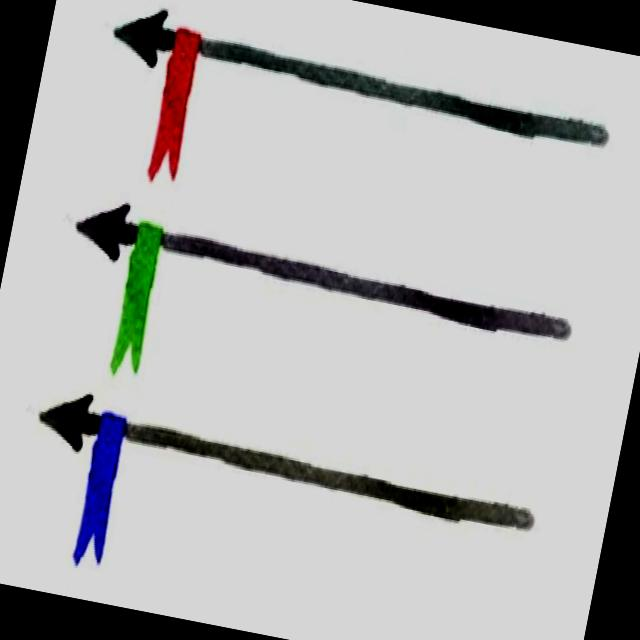spear: (72, 0, 633, 281), (6, 379, 559, 640), (47, 186, 593, 448)
